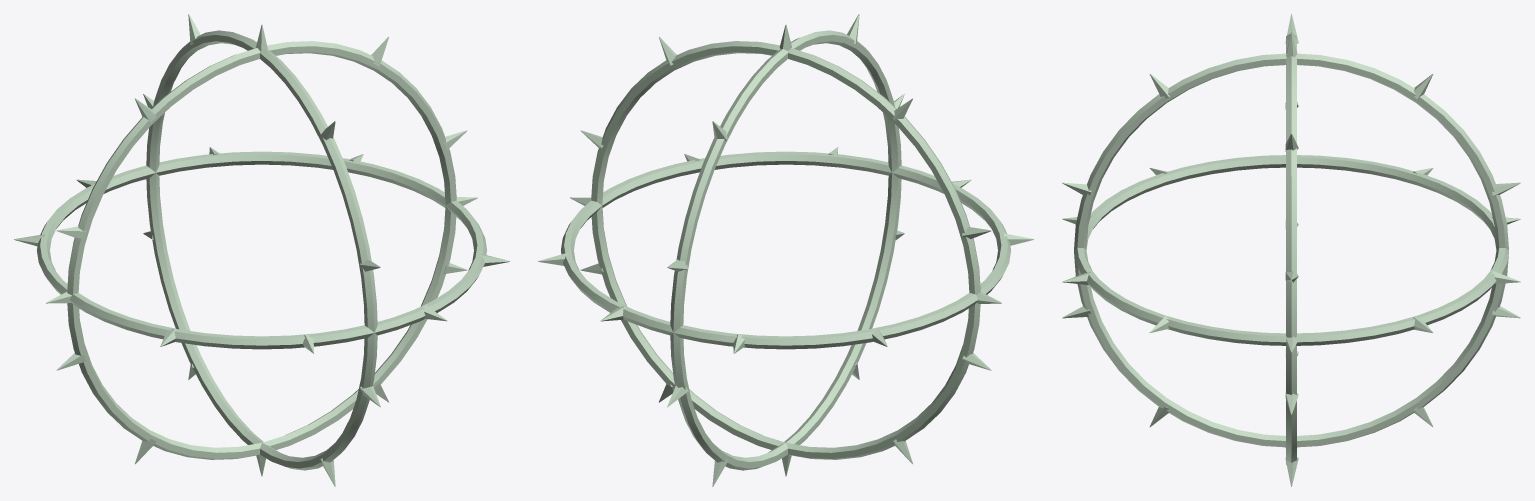
File: farbkranz.obj
3 renders of one model, left to right at view 1: azimuth 30°, elevation 25°; view 2: azimuth 150°, elevation 25°; view 3: azimuth 270°, elevation 25°, orthographic. The views are drawn at different scales.
Parts seen in each view (by area): view 1: farbkranz; view 2: farbkranz; view 3: farbkranz.
Part boxes in pixels (x1=…): farbkranz: x1=14, y1=14, x2=509, y2=486; farbkranz: x1=538, y1=14, x2=1033, y2=486; farbkranz: x1=1062, y1=14, x2=1520, y2=486.
Bounding box in the file's own units: 2.28 × 2.28 × 2.17.
